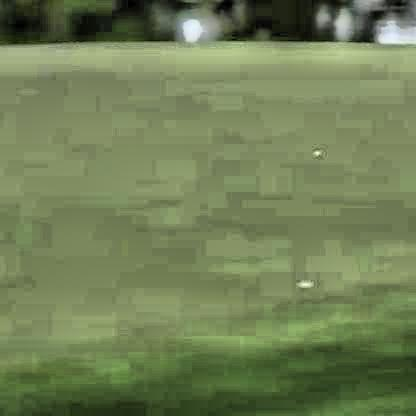golfball: (308, 146, 319, 156)
